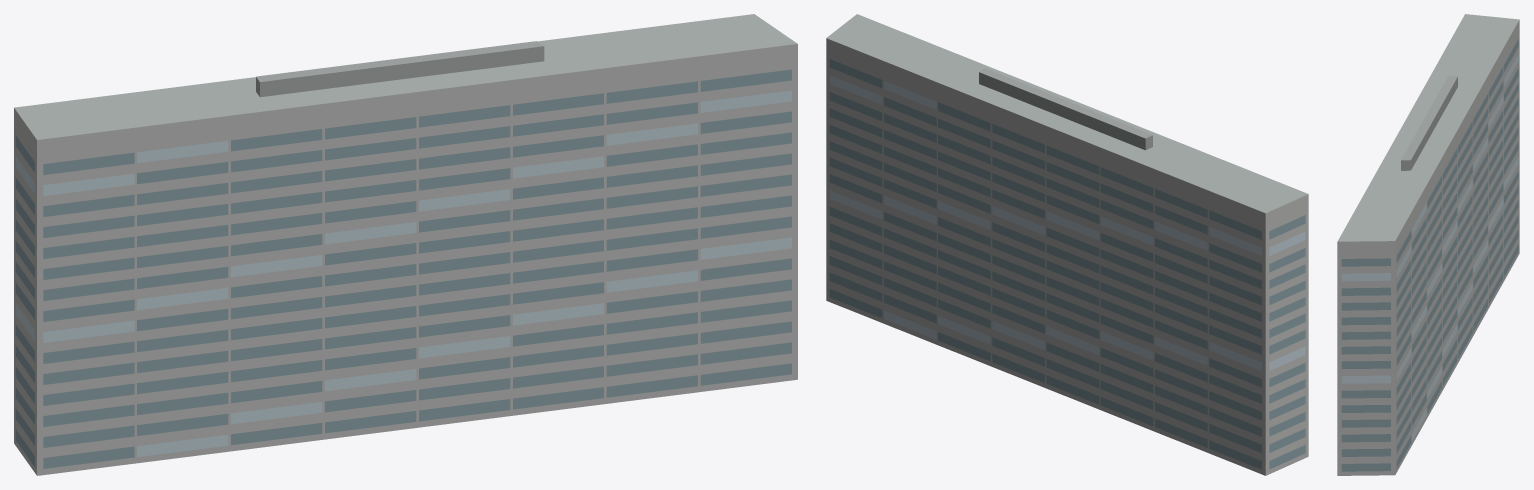
Rendered from fallback-olympic-athletes-village-256.glb.
The picture shows the model from 3 angles, left to right: view 1: azimuth 30°, elevation 25°; view 2: azimuth 150°, elevation 25°; view 3: azimuth 270°, elevation 25°; orthographic projection. The views are drawn at different scales.
Parts seen in each view (by area): view 1: fallback-olympic-athletes-village-256; view 2: fallback-olympic-athletes-village-256; view 3: fallback-olympic-athletes-village-256.
Part boxes in pixels (bbox=[...]): fallback-olympic-athletes-village-256: bbox=[14, 14, 797, 475]; fallback-olympic-athletes-village-256: bbox=[826, 14, 1308, 475]; fallback-olympic-athletes-village-256: bbox=[1337, 14, 1519, 475].
Bounding box in the file's own units: 102 × 51 × 34.41.
